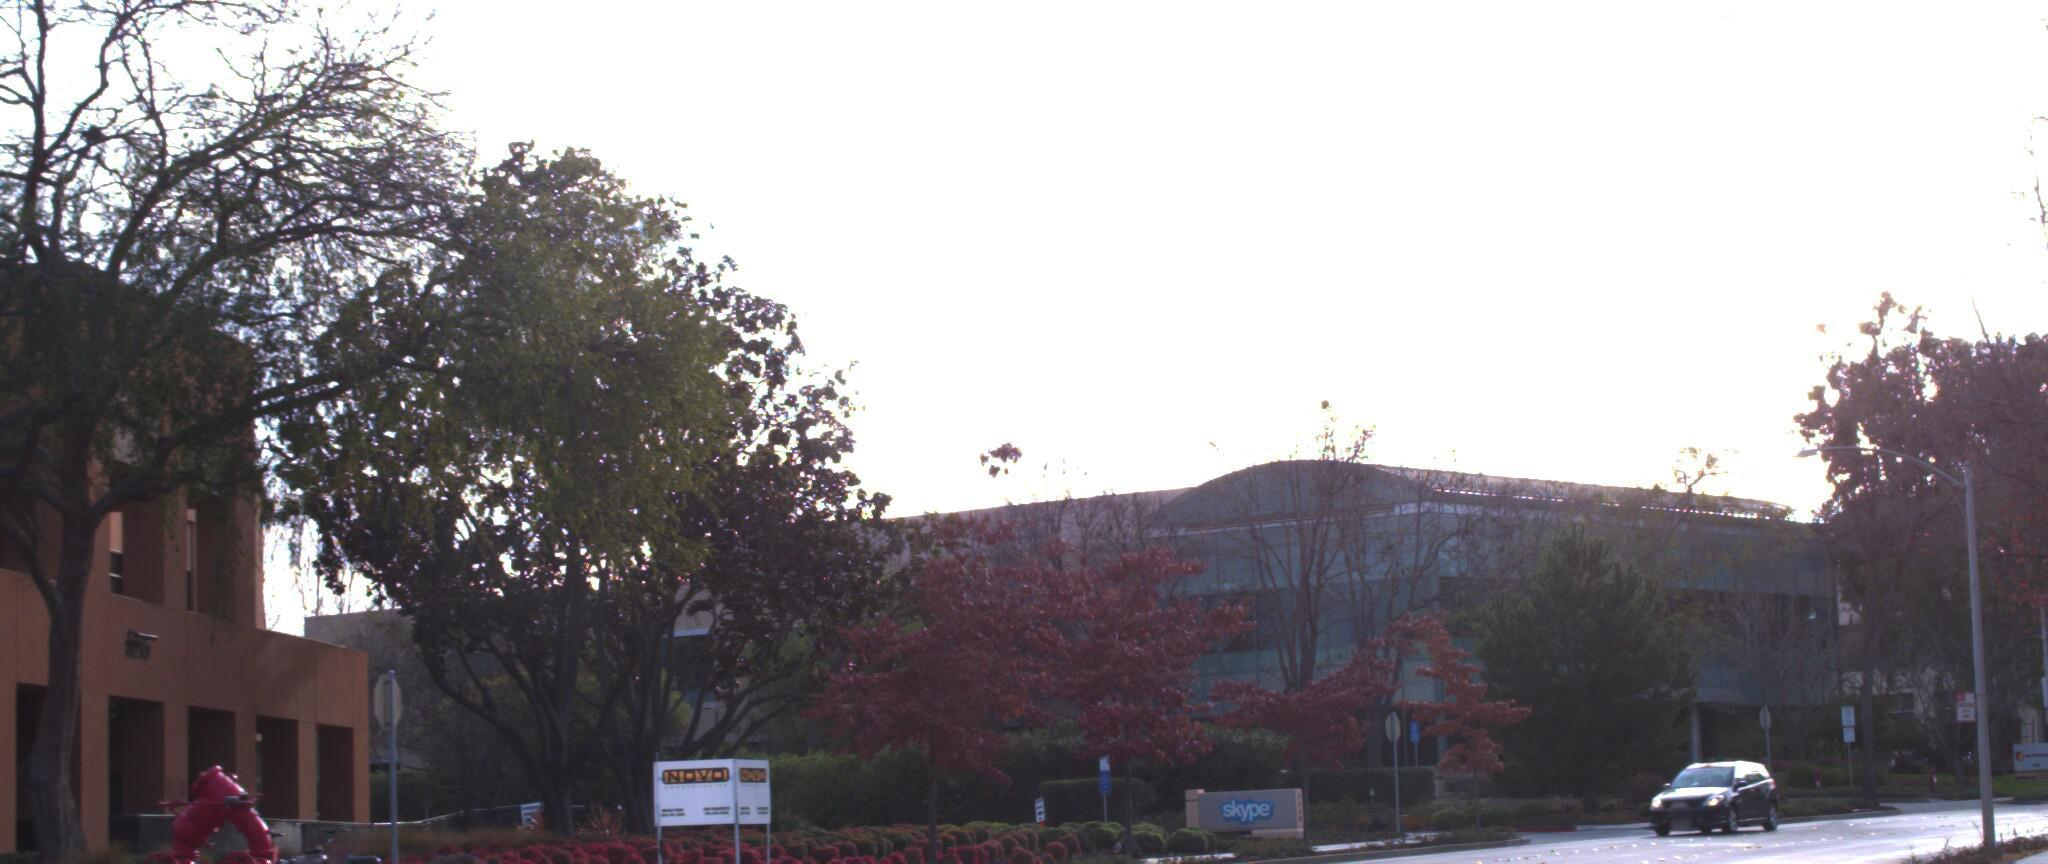car: (1637, 762, 1795, 848)
